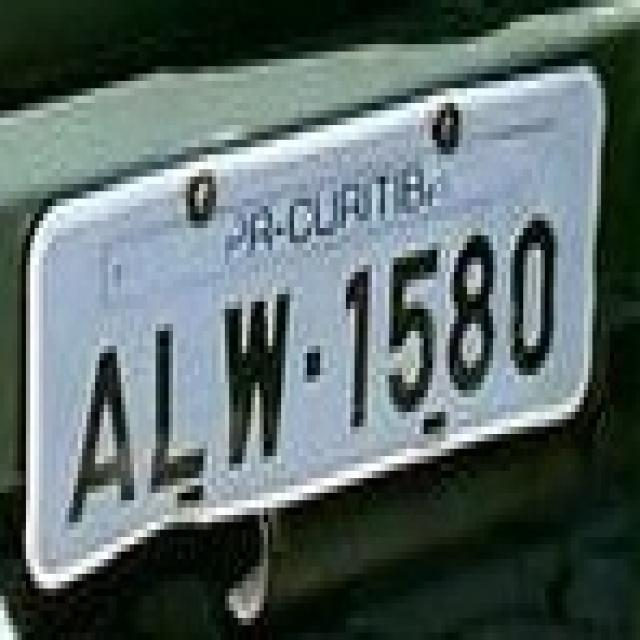licenseplate: (28, 110, 600, 543)
